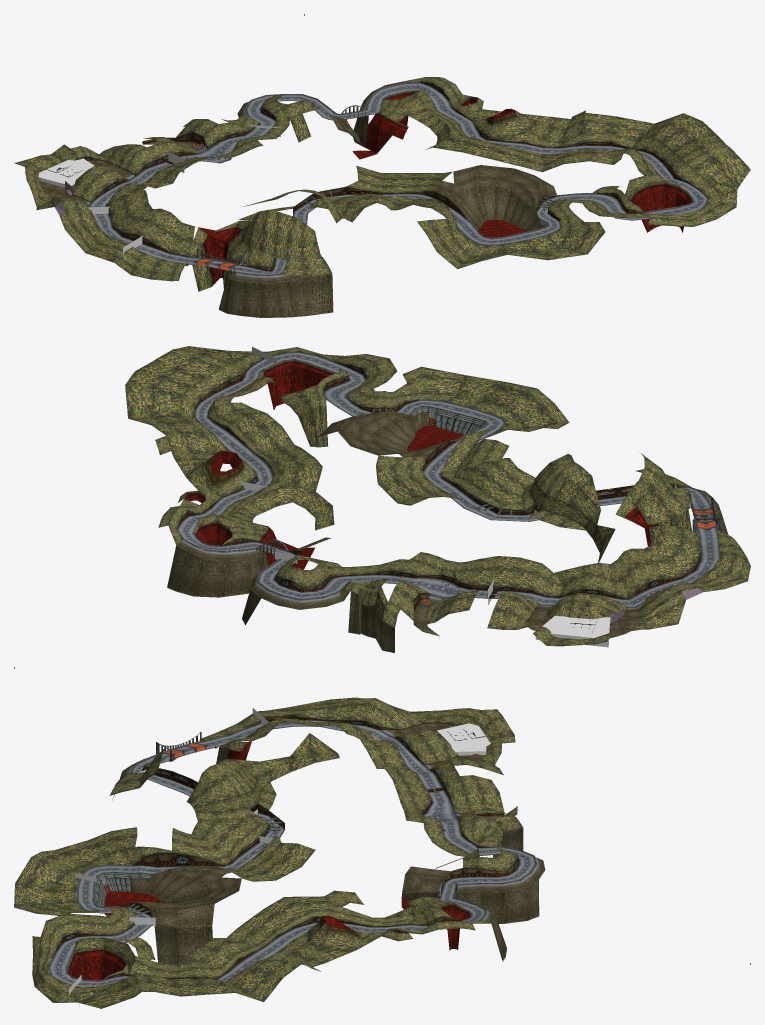
The model's file is Pompeii.glb.
3 renders of one model, top to bottom at view 1: azimuth 30°, elevation 25°; view 2: azimuth 150°, elevation 25°; view 3: azimuth 270°, elevation 25°, orthographic. The views are drawn at different scales.
Visible parts, largest first — view 1: Sector80, Sector129, Sector121, Sector128, Sector57, Sector78, Sector126, Sector106, Sector63, Sector101, Sector66, Sector55 (+42 smaller); view 2: Sector106, Sector128, Sector72, Sector43, Sector38, Sector126, Sector94, Sector53, Sector55, Sector63, Sector64, Sector95 (+63 smaller); view 3: Sector117, Sector106, Sector72, Sector64, Sector41, Sector66, Sector126, Sector90, Sector120, Sector113, Sector57, Sector73 (+52 smaller).
Boxes of the visible parts, left/top/right/bottom form: Sector80: left=227, top=267, right=307, bottom=317; Sector129: left=139, top=209, right=219, bottom=291; Sector121: left=453, top=165, right=522, bottom=222; Sector128: left=208, top=210, right=267, bottom=288; Sector57: left=680, top=150, right=750, bottom=207; Sector78: left=290, top=217, right=333, bottom=315; Sector126: left=345, top=165, right=452, bottom=192; Sector106: left=426, top=123, right=526, bottom=167; Sector63: left=547, top=203, right=605, bottom=254; Sector101: left=329, top=110, right=408, bottom=159; Sector66: left=417, top=218, right=477, bottom=268; Sector55: left=654, top=121, right=721, bottom=165; Sector106: left=237, top=448, right=334, bottom=530; Sector128: left=615, top=457, right=692, bottom=546; Sector72: left=536, top=454, right=600, bottom=530; Sector43: left=194, top=548, right=261, bottom=597; Sector38: left=338, top=581, right=400, bottom=652; Sector126: left=376, top=455, right=462, bottom=505; Sector94: left=489, top=556, right=573, bottom=595; Sector53: left=125, top=385, right=199, bottom=425; Sector55: left=135, top=353, right=228, bottom=399; Sector63: left=384, top=366, right=464, bottom=407; Sector64: left=445, top=375, right=536, bottom=413; Sector95: left=400, top=552, right=498, bottom=585; Sector117: left=133, top=900, right=214, bottom=964; Sector106: left=238, top=890, right=372, bottom=933; Sector72: left=187, top=759, right=276, bottom=820; Sector64: left=14, top=857, right=79, bottom=907; Sector41: left=481, top=872, right=539, bottom=923; Sector66: left=55, top=827, right=137, bottom=867; Sector126: left=217, top=835, right=315, bottom=881; Sector90: left=445, top=775, right=504, bottom=813; Sector120: left=149, top=865, right=229, bottom=902; Sector113: left=74, top=937, right=127, bottom=980; Sector57: left=53, top=979, right=134, bottom=1008; Sector73: left=260, top=733, right=339, bottom=780.
Bounding box in the file's own units: 1733 × 217 × 1764.
31 materials, 30 textured.
